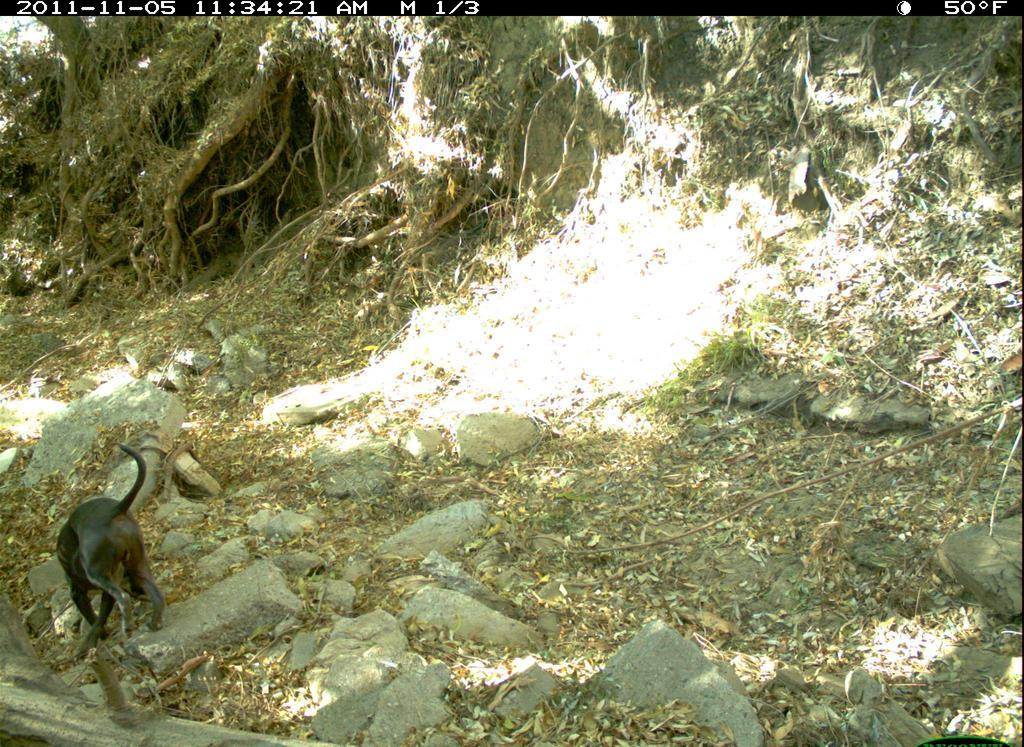dog: (53, 443, 177, 653)
